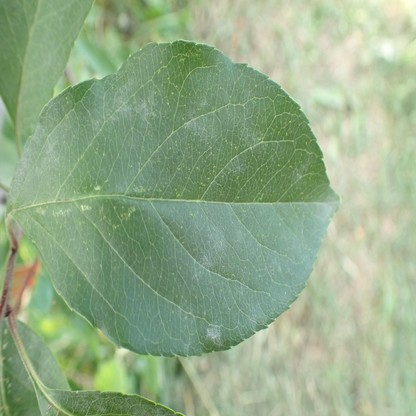powdery_mildew: (11, 98, 70, 194), (94, 66, 161, 130), (33, 391, 186, 416), (185, 68, 219, 141), (192, 222, 225, 282), (243, 123, 269, 149), (229, 154, 245, 175), (206, 325, 221, 344), (295, 162, 308, 182)
